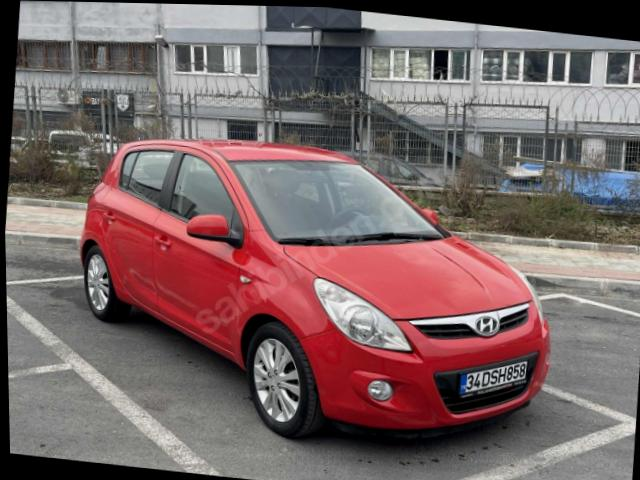plaka: (460, 361, 526, 394)
